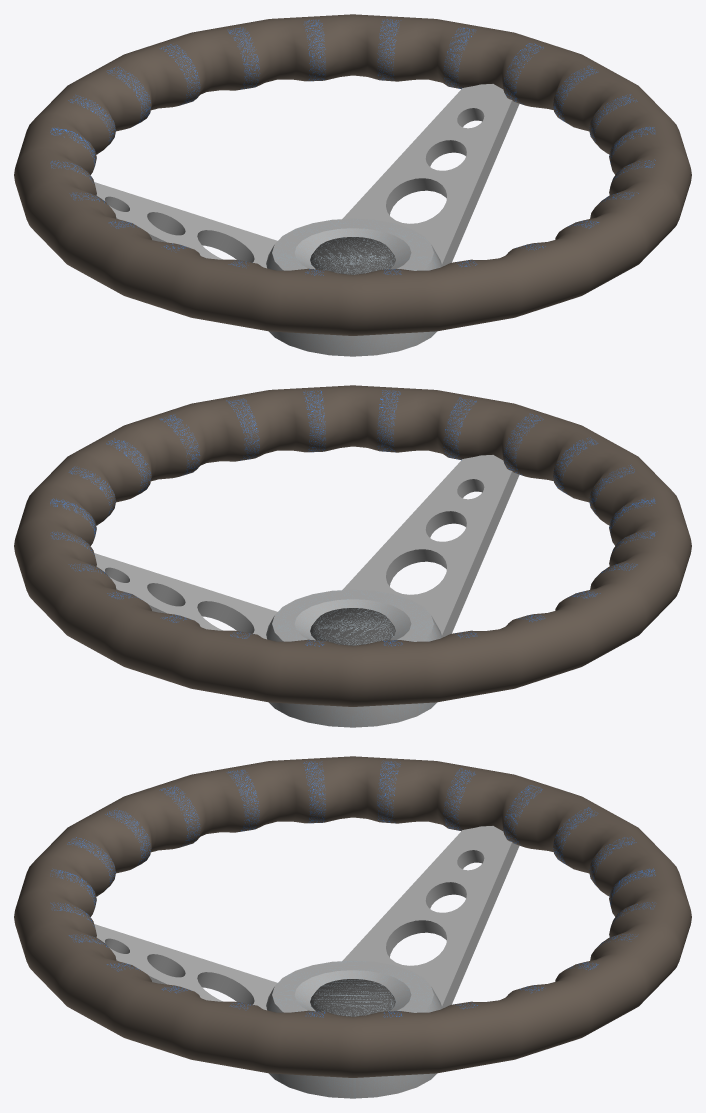
Rendered from wheel.dae.
3 views of the same model, one above another, from view 1: azimuth 30°, elevation 25°; view 2: azimuth 150°, elevation 25°; view 3: azimuth 270°, elevation 25° (orthographic).
Visible parts, largest first — view 1: instance_1 (×11), instance_4 (×3), instance_3 (×3), instance_5 (×3); view 2: instance_1 (×11), instance_2 (×3), instance_3 (×3), instance_4 (×3); view 3: instance_1 (×11), instance_5 (×3), instance_3 (×3), instance_2 (×3).
Boxes of the visible parts, bbox=[...] form: instance_1 (×11): bbox=[14, 14, 691, 335]; instance_4 (×3): bbox=[342, 84, 519, 266]; instance_3 (×3): bbox=[266, 218, 442, 356]; instance_5 (×3): bbox=[94, 182, 277, 268]; instance_1 (×11): bbox=[14, 385, 691, 706]; instance_2 (×3): bbox=[342, 455, 519, 637]; instance_3 (×3): bbox=[266, 589, 442, 727]; instance_4 (×3): bbox=[94, 553, 277, 639]; instance_1 (×11): bbox=[14, 756, 691, 1077]; instance_5 (×3): bbox=[342, 826, 519, 1008]; instance_3 (×3): bbox=[266, 960, 442, 1098]; instance_2 (×3): bbox=[94, 924, 277, 1010].
Size of the model in its own units: 338 by 338 by 94.14.
